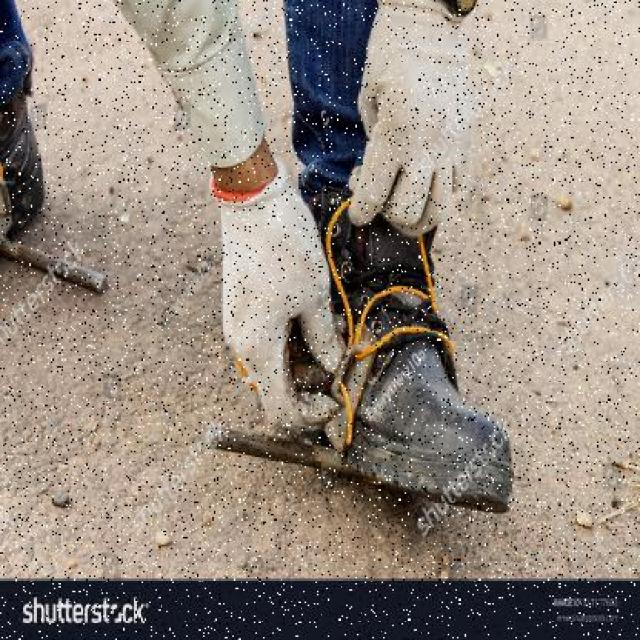shoes: (309, 190, 514, 528)
